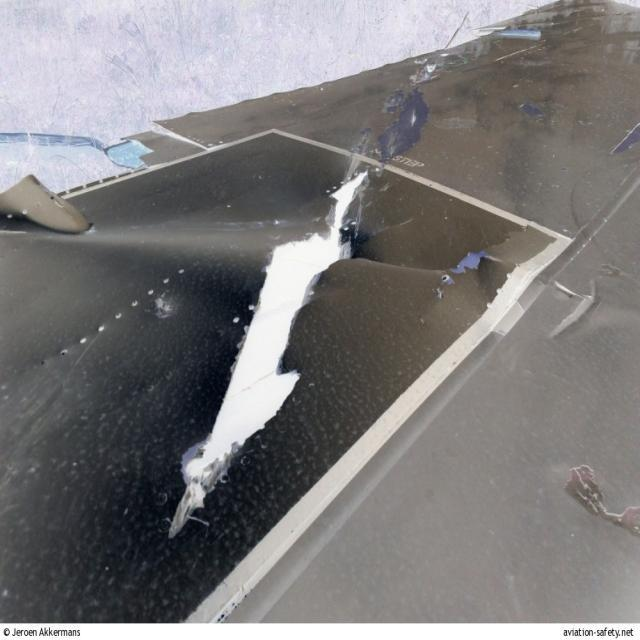crack: (168, 170, 373, 541)
